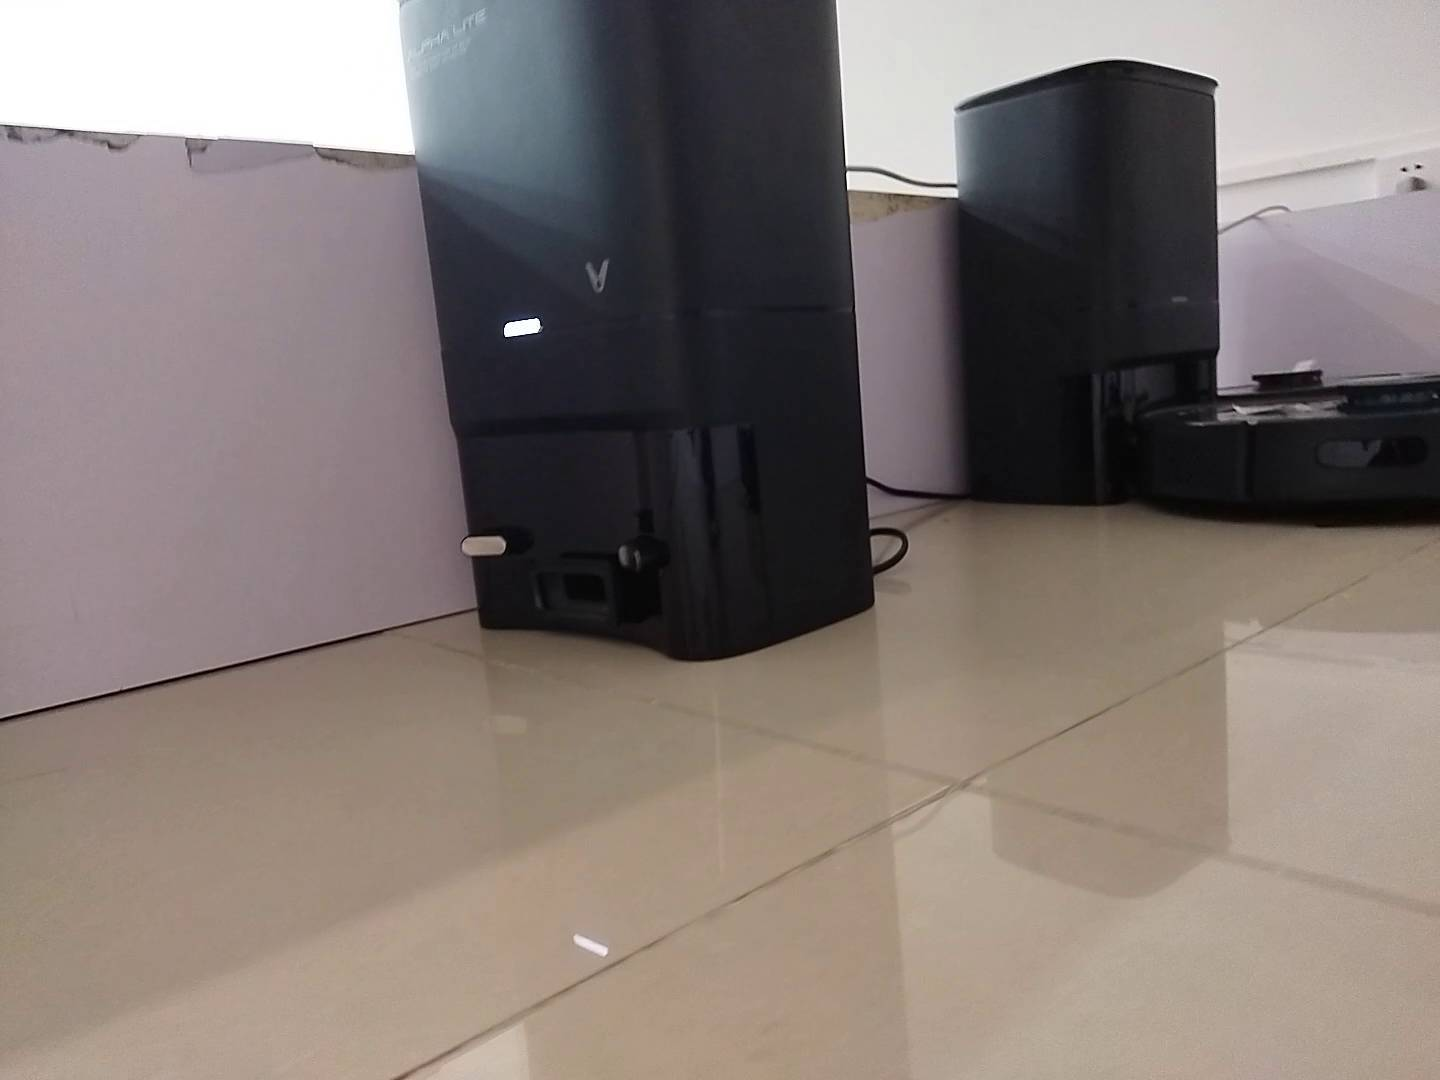dust collecting barrel: (393, 1, 875, 660), (955, 59, 1221, 513)
